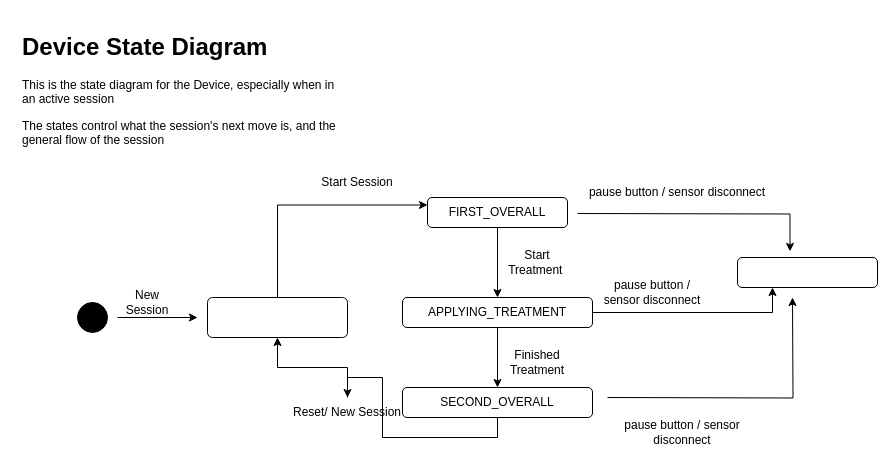
Image size: 895x464. Some labels were removed from this diagram. The shapes that lost their labels are listed below. From the top down, each one's centre as x and y in pixels, then its label:
At [807,272]: "PAUSED".
At [277,317]: "Ready".
